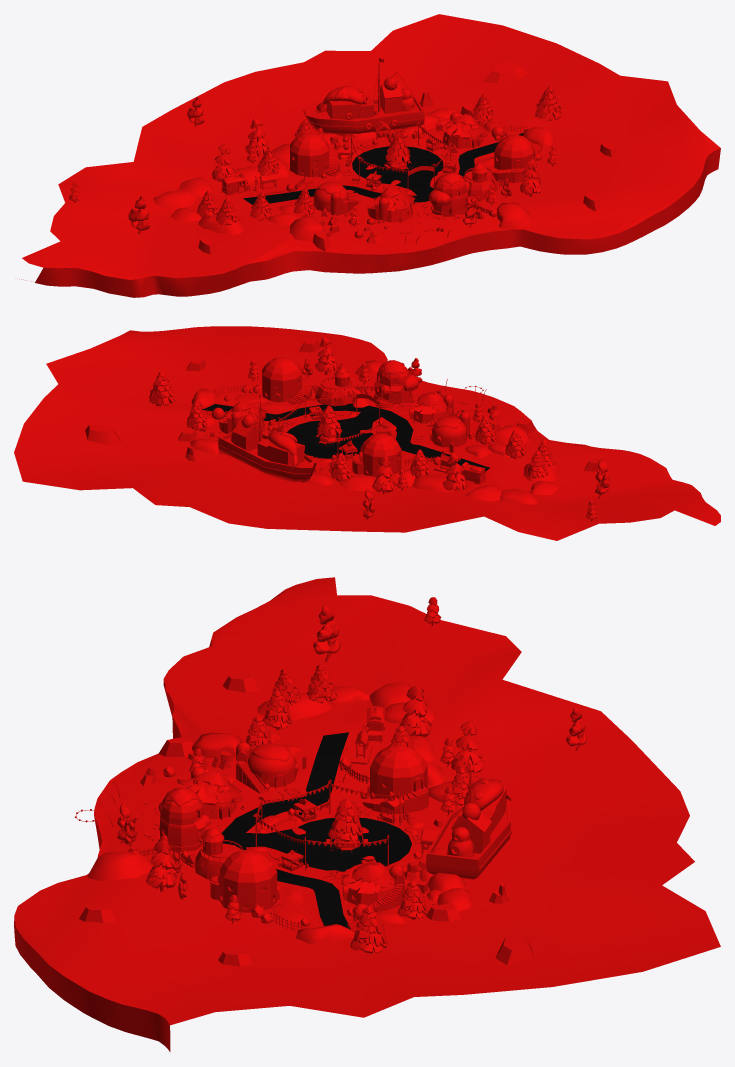
Rendered from Individual_BlubberBay_03.glb.
3 views of the same model, one above another, from view 1: azimuth 30°, elevation 25°; view 2: azimuth 150°, elevation 25°; view 3: azimuth 270°, elevation 25° (orthographic). The views are drawn at different scales.
Parts seen in each view (by area): view 1: pasted__Berg, pasted__pasted__Ship, HOUSE07, HOUSE08, STARBUCKS, polySurface12, HOUSE09, HOUSE01, pasted__pasted__SnowPatch24, HOUSE05, pasted__pasted__Fish, pasted__pasted__pasted__SnowPatch33 (+14 smaller); view 2: pasted__Berg, pasted__pasted__Ship, HOUSE08, STARBUCKS, HOUSE07, polySurface12, HOUSE01, HOUSE05, HOUSE09, Tree_54, Tree_354, pasted__Tree_353 (+19 smaller); view 3: pasted__Berg, pasted__pasted__Ship, HOUSE07, HOUSE08, STARBUCKS, HOUSE09, HOUSE01, polySurface12, pasted__pasted__SnowPatch24, HOUSE05, Tree_54, pasted__Tree_353 (+15 smaller).
Part boxes in pixels (x1,y1,x2,y2): pasted__Berg: (19,14,720,297); pasted__pasted__Ship: (302,58,424,135); HOUSE07: (290,132,339,177); HOUSE08: (486,134,534,182); STARBUCKS: (421,172,468,220); polySurface12: (367,187,415,222); HOUSE09: (442,112,487,148); HOUSE01: (313,181,360,215); pasted__pasted__SnowPatch24: (497,202,532,229); HOUSE05: (463,163,497,196); pasted__pasted__Fish: (316,86,367,112); pasted__pasted__pasted__SnowPatch33: (153,189,196,209); pasted__Berg: (14,326,720,540); pasted__pasted__Ship: (218,394,316,482); HOUSE08: (262,357,311,404); STARBUCKS: (374,360,423,408); HOUSE07: (352,433,401,477); polySurface12: (409,392,453,426); HOUSE01: (428,412,469,447); HOUSE05: (315,367,355,405); HOUSE09: (219,401,266,433); Tree_54: (149,371,175,406); Tree_354: (372,456,396,493); pasted__Tree_353: (442,453,467,490); pasted__Berg: (14,577,720,1051); pasted__pasted__Ship: (425,763,511,879); HOUSE07: (362,744,428,813); HOUSE08: (210,849,277,912); STARBUCKS: (143,787,210,852); HOUSE09: (340,862,405,911); HOUSE01: (236,742,299,793); polySurface12: (179,767,243,818); pasted__pasted__SnowPatch24: (87,852,152,880); HOUSE05: (194,828,242,879); Tree_54: (350,906,387,953); pasted__Tree_353: (399,685,431,736).
Bounding box in the file's own units: 141 × 18.73 × 92.4.
